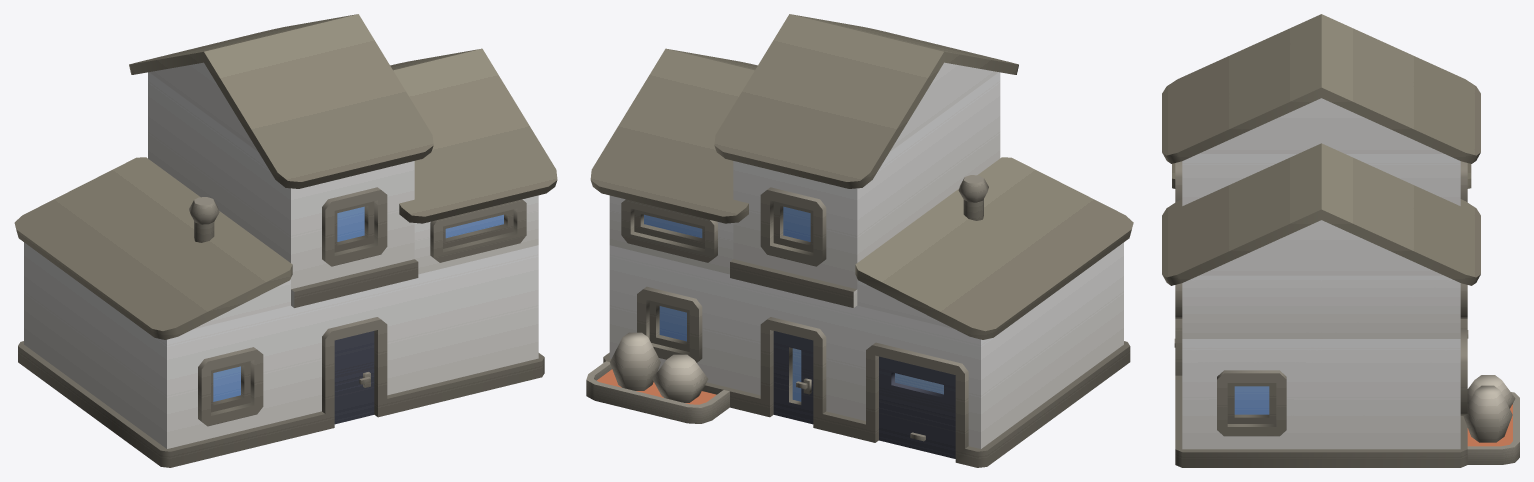
The model's file is sub-building-type-c.glb.
3 views of the same model, side by side, from view 1: azimuth 30°, elevation 25°; view 2: azimuth 150°, elevation 25°; view 3: azimuth 270°, elevation 25° (orthographic). The views are drawn at different scales.
Parts seen in each view (by area): view 1: building-type-c; view 2: building-type-c; view 3: building-type-c.
Boxes of the visible parts, bbox=[...] form: building-type-c: bbox=[14, 14, 557, 467]; building-type-c: bbox=[586, 14, 1133, 467]; building-type-c: bbox=[1162, 14, 1519, 467].
Size of the model in its own units: 1.29 by 1.03 by 1.03.
1 material, 1 textured.
